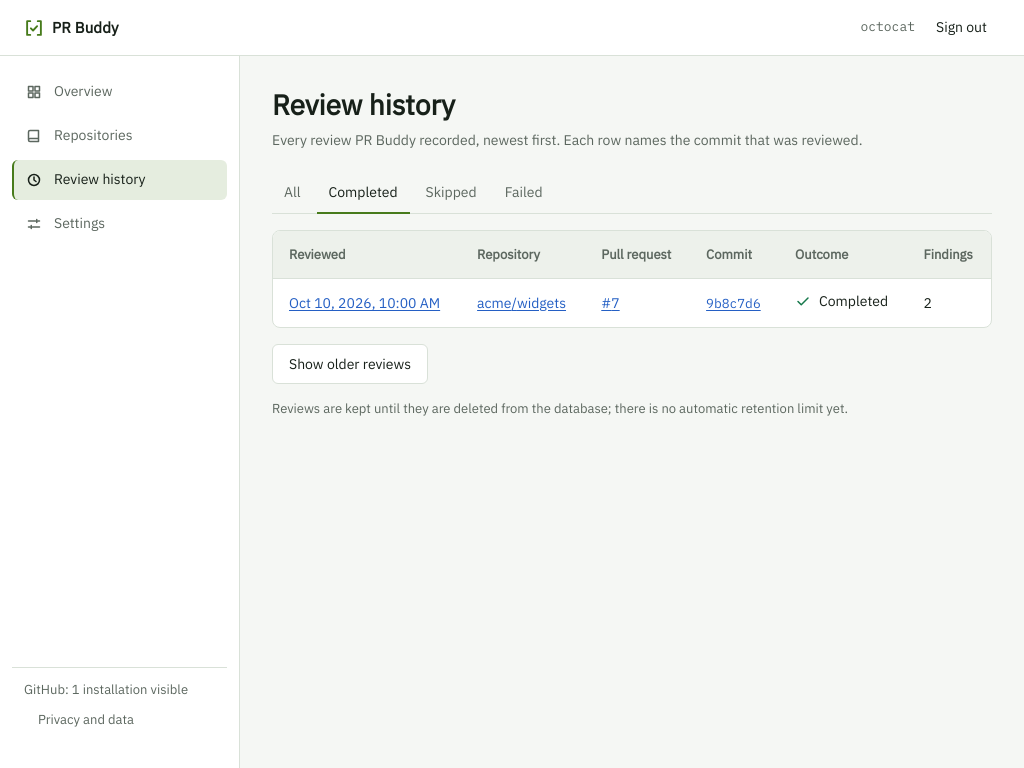
it: review history › pages with the filter kept
This screenshot has width=1024, height=768.
Click the button "Show older reviews". click: (350, 364)
box: [272,344,428,384]
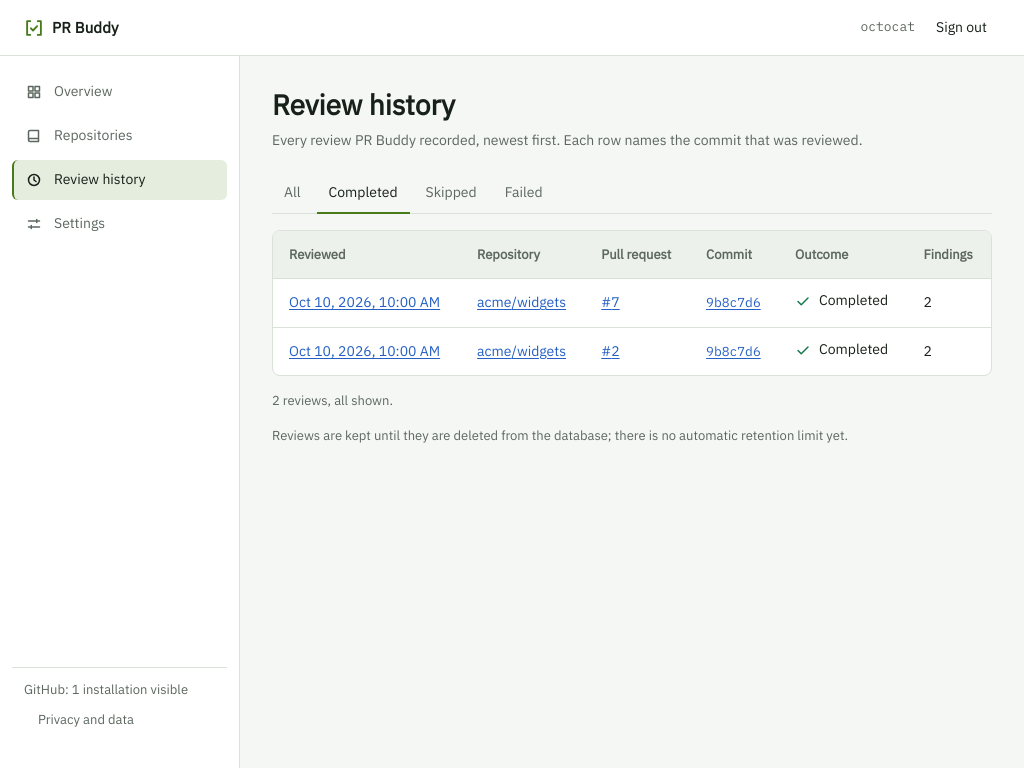
Expected: the link "#2" is shown, [601,342,620,360]
